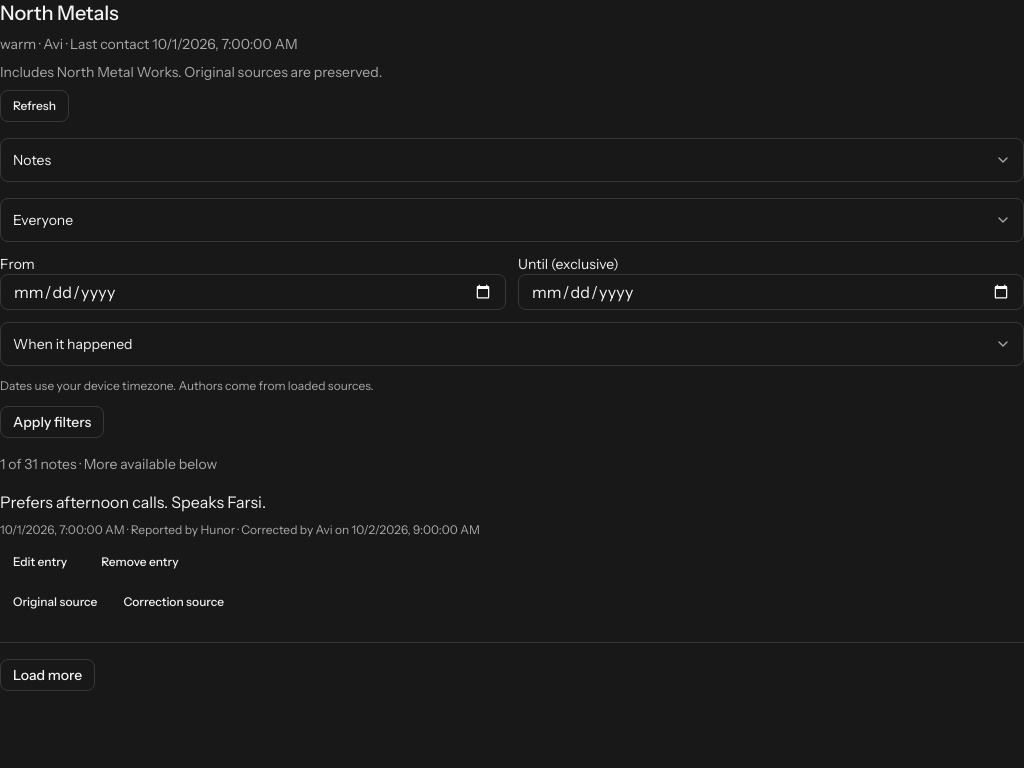
business capability controls › discloses bounded coverage and distinguishes original and correction sources
The width and height of the screenshot is (1024, 768).
Step 1. Click the button "Original source" → (55, 602), box [0,586,110,618]
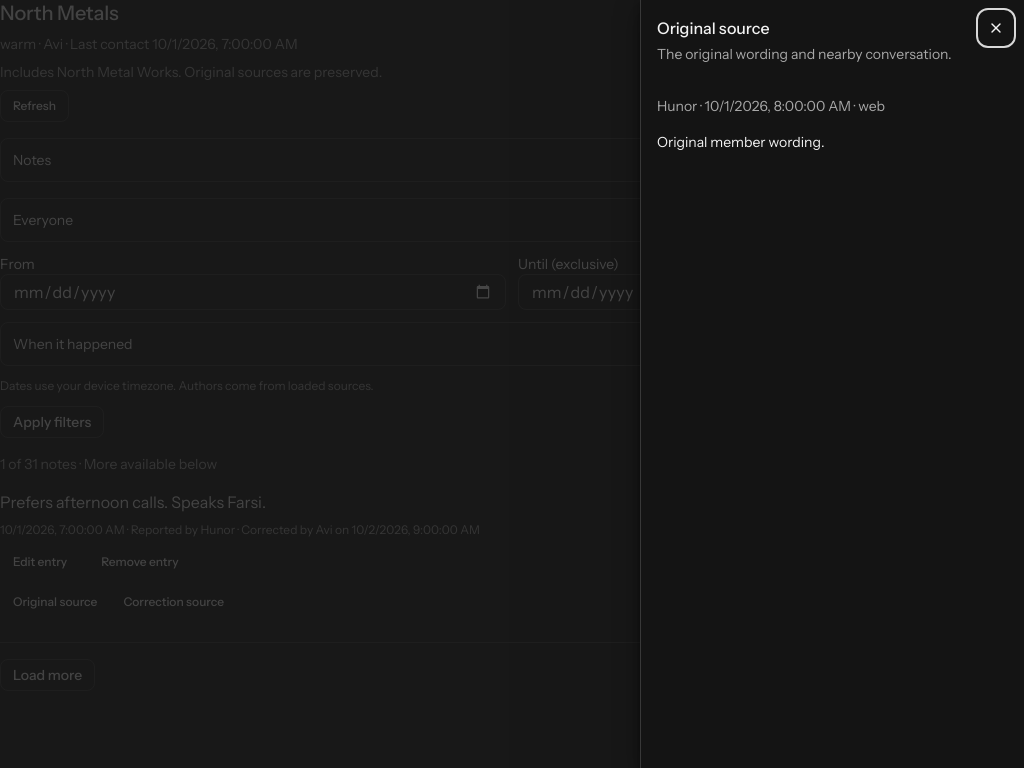
Check: the text "Original member wording." is shown, box [657,133,824,151]
